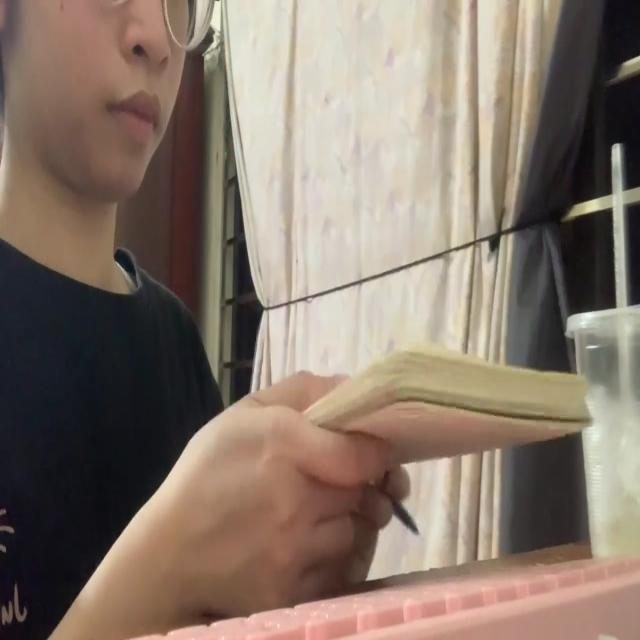book: (291, 337, 594, 468)
student: (0, 0, 411, 640)
